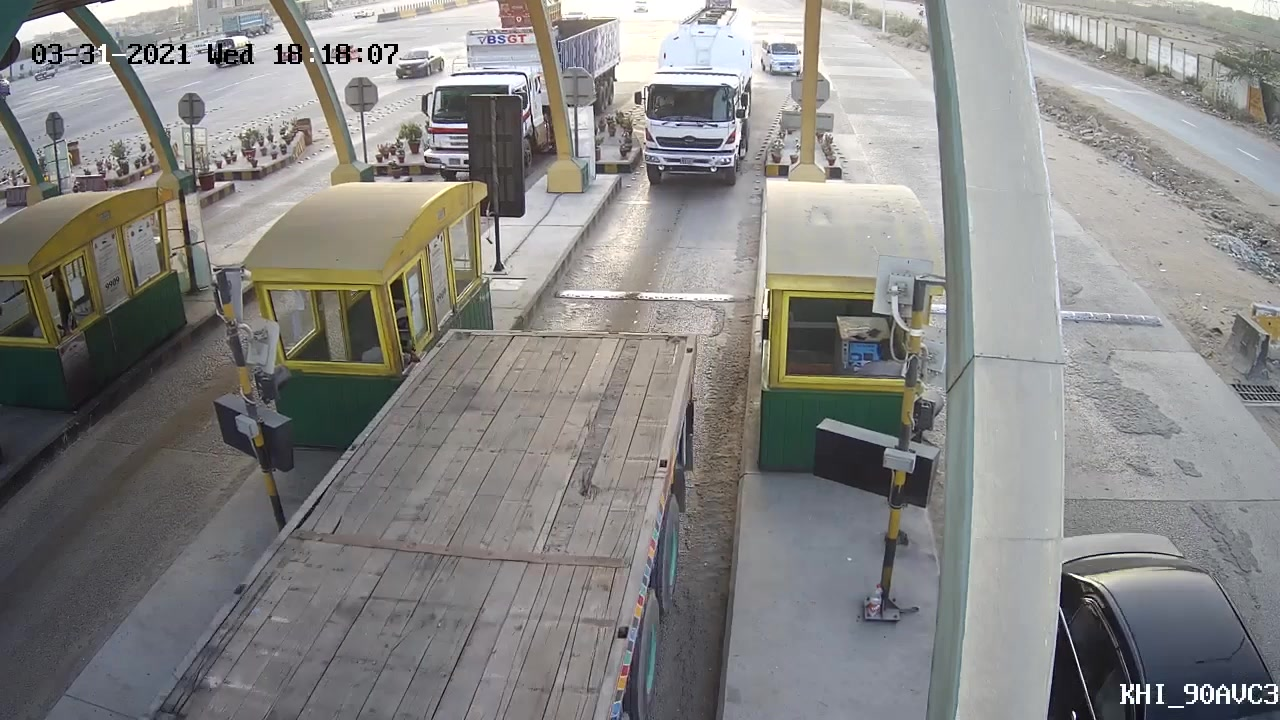F6: (628, 1, 766, 189)
